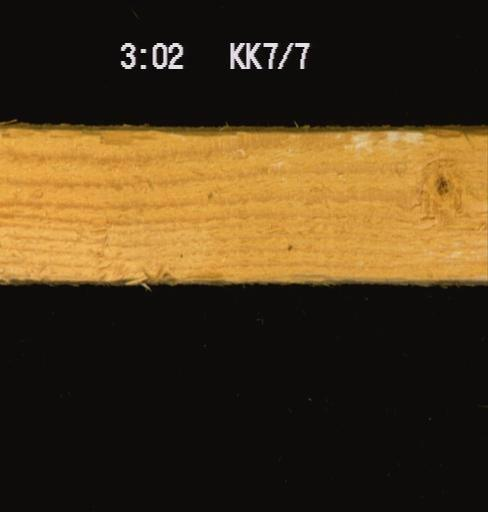sound_knot: (433, 173, 450, 196)
